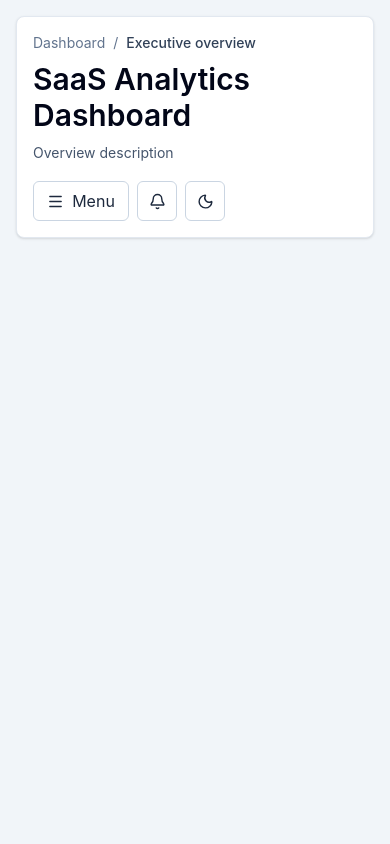
DashboardShell › expands the mobile navigation menu from the header
Click the button "Menu" at (81, 201), box left=33, top=181, right=129, bottom=221
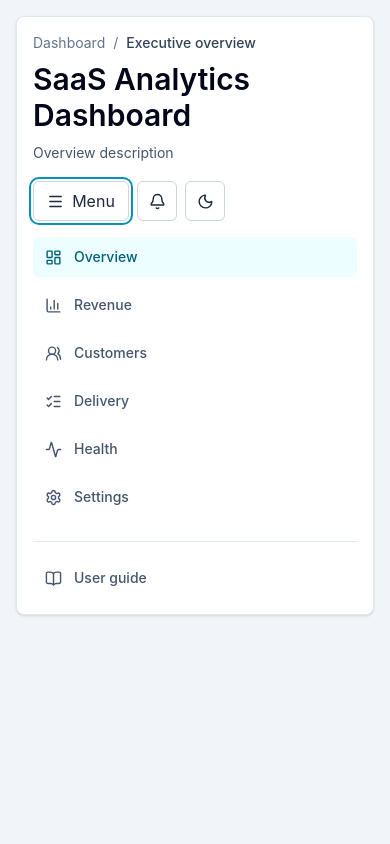
expect the navigation bar named "Mobile dashboard navigation" is shown: met, box left=33, top=237, right=357, bottom=598
expect the number of links "Revenue" is 2: met
expect the number of links "User guide" is 2: met
